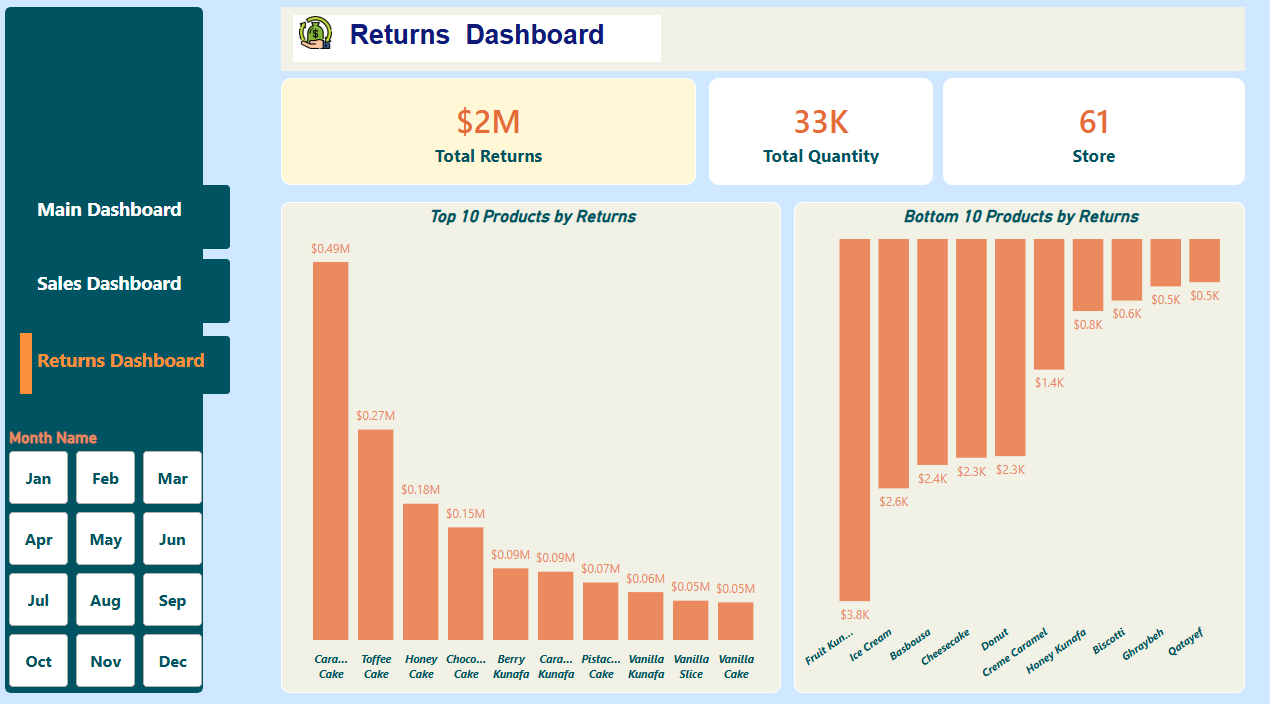

The page's visual inventory and layout, read from the dashboard file:
{"tool":"powerbi","page":{"name":"Returns Dashboard","canvas":[1280,720],"ordinal":2},"visuals":[{"type":"shape","box":[13,13,198,686],"z":0},{"type":"cardVisual","fields":{"Data":["Count(Sheet4.store name)"]},"box":[951.2,83.6,301.5,107],"z":1000},{"type":"textbox","box":[289,13,964,64],"z":2000},{"type":"group","id":"g1","title":"Group 1","box":[40,342,198,58],"z":3000},{"type":"columnChart","title":"Top 10 Products by Returns","fields":{"Category":["Sheet4.Products"],"Y":["Sheet2.Total Returns"]},"box":[289,208,500,491],"z":4000},{"type":"shape","box":[52.7,191,185,64],"z":5000,"group":"g2"},{"type":"shape","box":[52.7,265,185,64],"z":5000,"group":"g3"},{"type":"shape","box":[28,339,12,61],"z":5000},{"type":"cardVisual","fields":{"Data":["Sheet2.Total Quantity"]},"box":[716.8,83.6,223.7,107],"z":6000},{"type":"cardVisual","fields":{"Data":["Sheet2.Total Returns"]},"box":[288.9,83.6,415.3,107],"z":7000},{"type":"textbox","box":[40,196.8,154.7,44.7],"z":7000,"group":"g2"},{"type":"textbox","box":[40,270.8,154.7,44.7],"z":7000,"group":"g3"},{"type":"shape","box":[40,342,198,58],"z":7000,"group":"g1"},{"type":"columnChart","title":"Bottom 10 Products by Returns","fields":{"Category":["Sheet4.Products"],"Y":["Sheet2.Total Returns"]},"box":[802,208,451,491],"z":8000},{"type":"advancedSlicerVisual","fields":{"Values":["Sheet4.Month Name"]},"box":[13,432,206,267],"z":9000},{"type":"textbox","box":[301,21,368,47],"z":10000},{"type":"image","box":[289,21,69,35],"z":11000},{"type":"group","id":"g2","title":"Group 3","box":[40,191,198,64],"z":12000},{"type":"textbox","box":[40,347.8,187.4,46.4],"z":12000,"group":"g1"},{"type":"group","id":"g3","title":"Group 3","box":[40,265,198,64],"z":13000}]}

Visuals, with their boxes on the page's 1280x720 design canvas (x1, y1, x2, y2). These are canvas units, not pixel positions in the 1270x704 screenshot, which may show the page scaled, cropped or inside an application window:
shape: BBox(13, 13, 211, 699)
cardVisual - Count(Sheet4.store name): BBox(951, 84, 1253, 191)
textbox: BBox(289, 13, 1253, 77)
"Group 1" group: BBox(40, 342, 238, 400)
"Top 10 Products by Returns" columnChart: BBox(289, 208, 789, 699)
shape: BBox(53, 191, 238, 255)
shape: BBox(53, 265, 238, 329)
shape: BBox(28, 339, 40, 400)
cardVisual - Sheet2.Total Quantity: BBox(717, 84, 940, 191)
cardVisual - Sheet2.Total Returns: BBox(289, 84, 704, 191)
textbox: BBox(40, 197, 195, 242)
textbox: BBox(40, 271, 195, 316)
shape: BBox(40, 342, 238, 400)
"Bottom 10 Products by Returns" columnChart: BBox(802, 208, 1253, 699)
advancedSlicerVisual - Sheet4.Month Name: BBox(13, 432, 219, 699)
textbox: BBox(301, 21, 669, 68)
image: BBox(289, 21, 358, 56)
"Group 3" group: BBox(40, 191, 238, 255)
textbox: BBox(40, 348, 227, 394)
"Group 3" group: BBox(40, 265, 238, 329)
